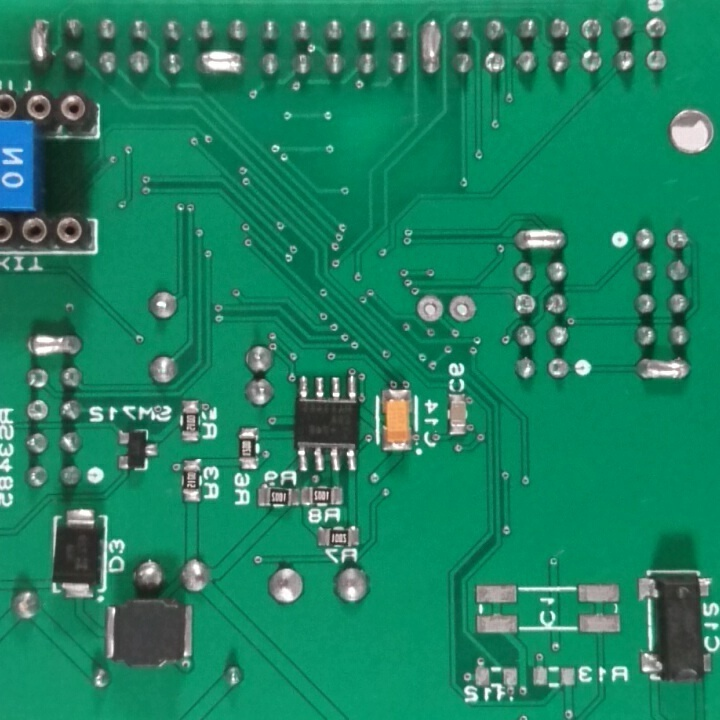F: (448, 290, 479, 326), (512, 289, 539, 321), (416, 292, 444, 322), (24, 398, 53, 424), (644, 17, 672, 43), (483, 51, 510, 76), (580, 18, 606, 43), (547, 356, 572, 382), (665, 227, 690, 252)
P: (636, 355, 696, 386), (24, 330, 84, 361), (513, 225, 572, 256), (192, 48, 247, 81), (417, 17, 444, 80), (28, 13, 54, 72)
